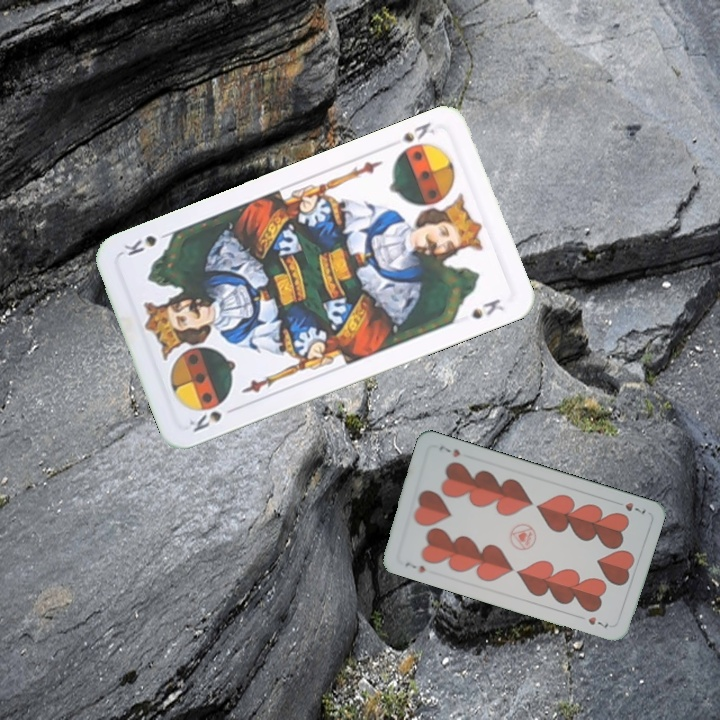H7: (610, 497, 648, 517), (401, 558, 428, 575)
SK: (184, 406, 225, 435), (398, 118, 438, 145)
